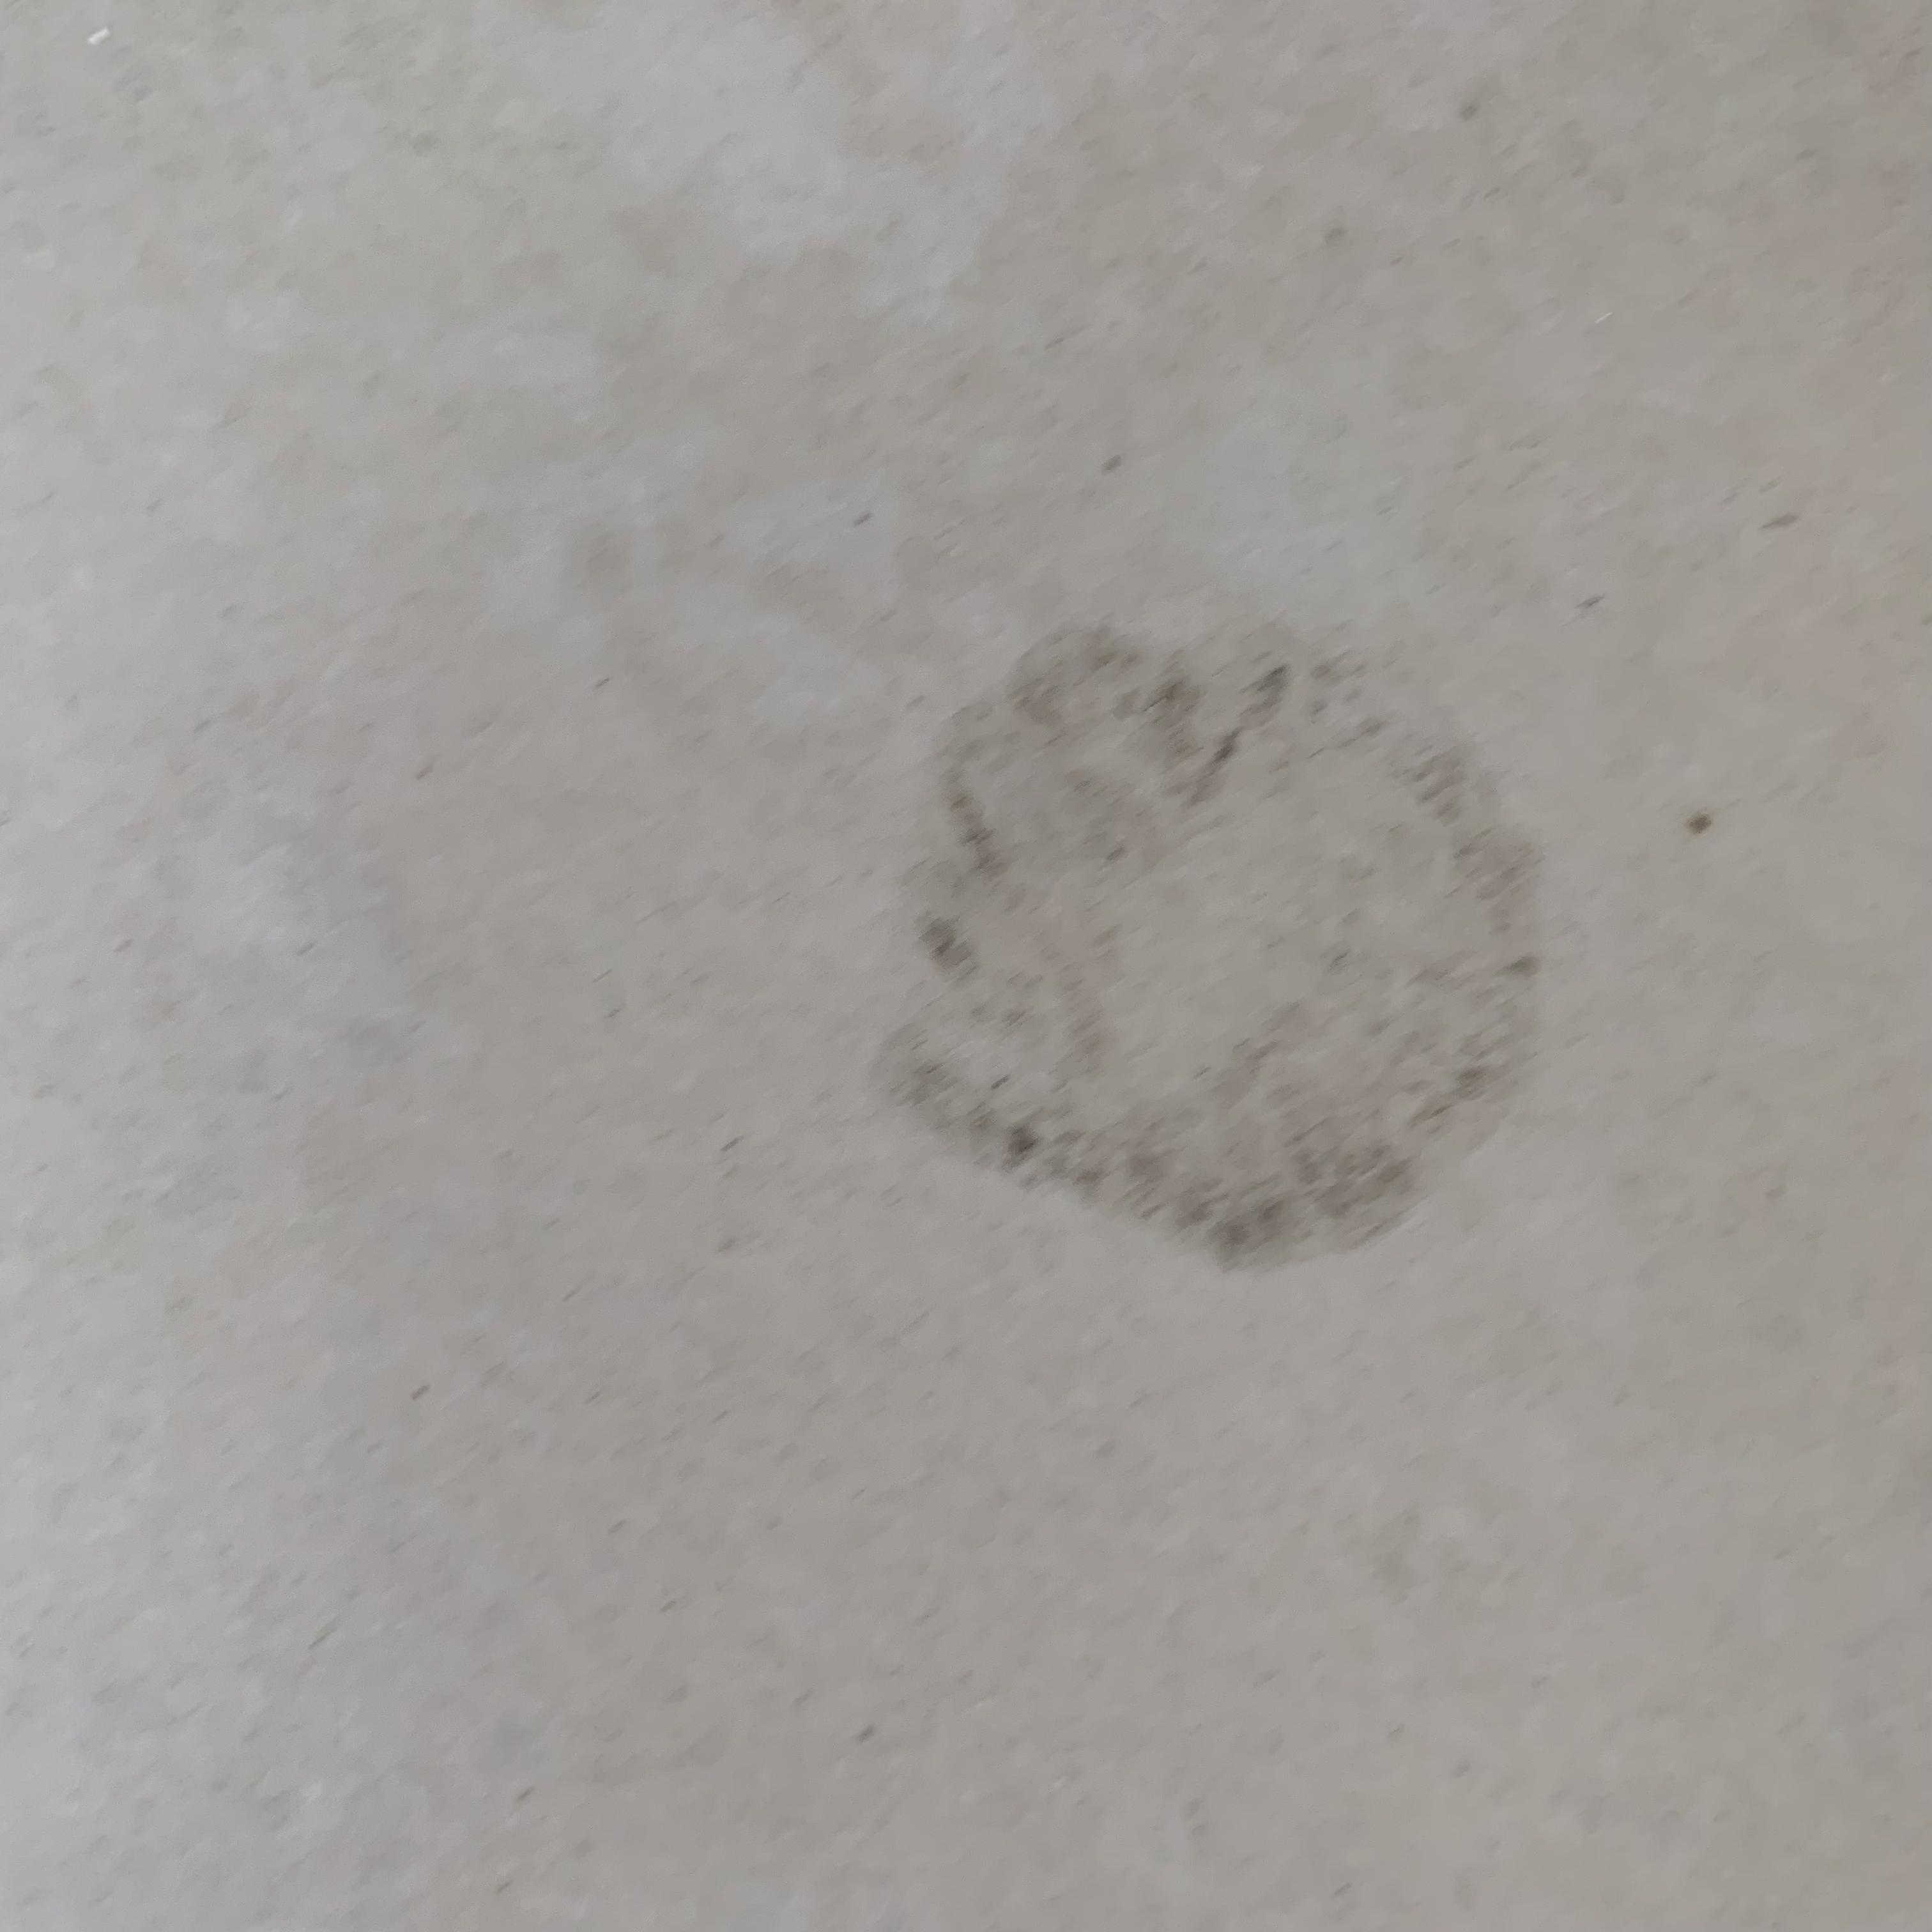grey spot: (874, 619, 1548, 1270)
